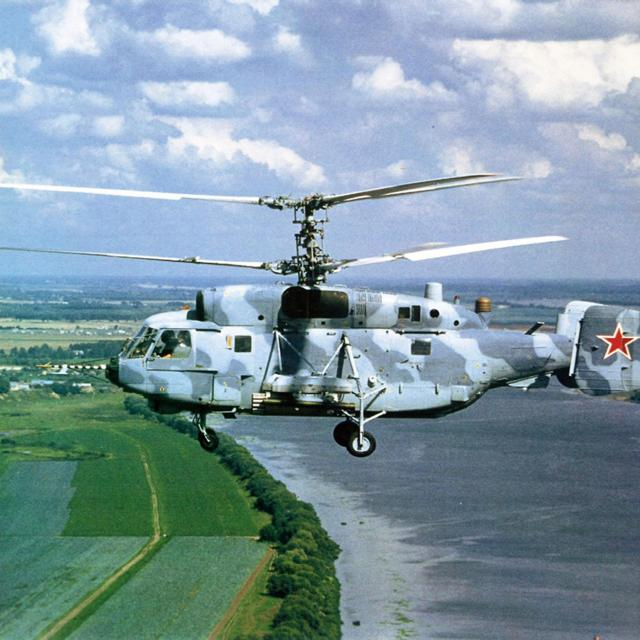MIL_HELO: (0, 159, 640, 481)
